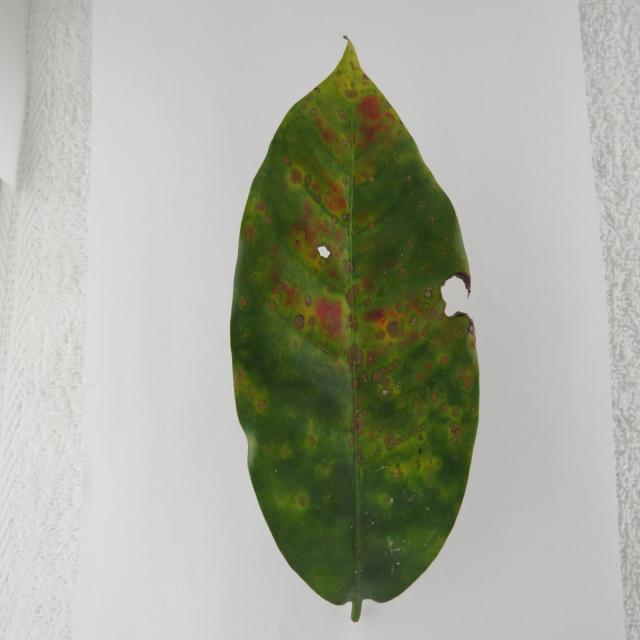DeficienciaNutricional-Fosforo: (231, 40, 479, 622)
